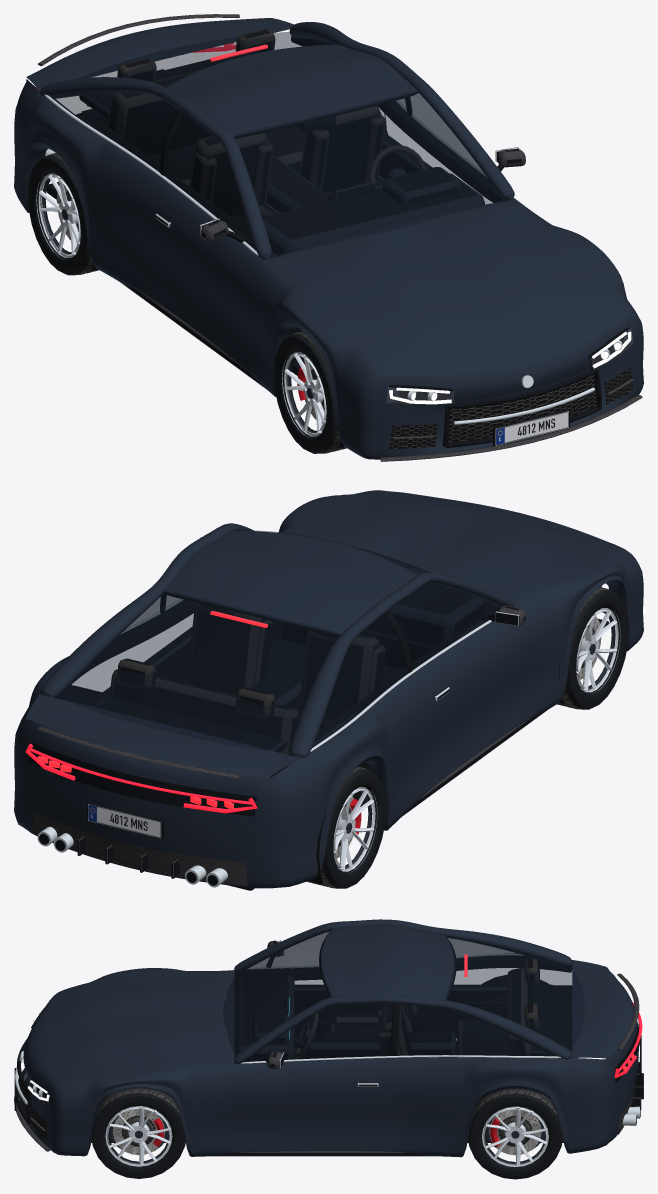
The model's file is getaway_car.glb.
3 renders of one model, top to bottom at view 1: azimuth 30°, elevation 25°; view 2: azimuth 150°, elevation 25°; view 3: azimuth 270°, elevation 25°, orthographic. The views are drawn at different scales.
Parts seen in each view (by area): view 1: Body, Glass, Interior, Wheel_FR, Wheel_RR, Headlights; view 2: Body, Glass, Interior, Wheel_FR, Wheel_RR, Taillights, Brakelights; view 3: Body, Glass, Interior, Wheel_FL, Wheel_RL.
Part boxes in pixels (bbox=[...]): Body: bbox=[14, 14, 643, 461]; Glass: bbox=[51, 32, 506, 257]; Interior: bbox=[76, 29, 484, 333]; Wheel_FR: bbox=[273, 331, 346, 453]; Wheel_RR: bbox=[27, 153, 99, 275]; Headlights: bbox=[389, 331, 631, 404]; Body: bbox=[14, 490, 643, 890]; Glass: bbox=[53, 530, 501, 754]; Interior: bbox=[86, 583, 492, 800]; Wheel_FR: bbox=[557, 587, 628, 709]; Wheel_RR: bbox=[306, 766, 386, 888]; Taillights: bbox=[25, 743, 257, 813]; Brakelights: bbox=[37, 611, 267, 809]; Body: bbox=[14, 919, 643, 1157]; Glass: bbox=[223, 929, 584, 1061]; Interior: bbox=[236, 958, 572, 1061]; Wheel_FL: bbox=[92, 1088, 185, 1178]; Wheel_RL: bbox=[468, 1089, 562, 1179].
Size of the model in its own units: 2.06 by 1.35 by 4.54.
Materials: 20 (6 with a texture image).
